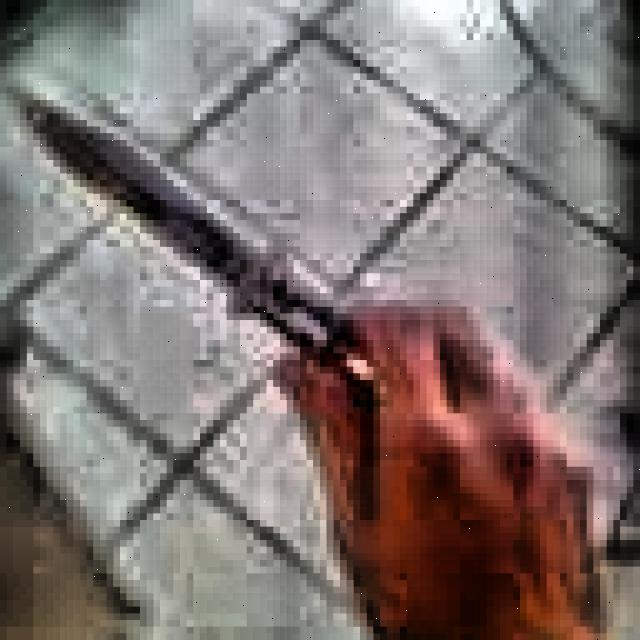knife: (19, 94, 382, 404)
